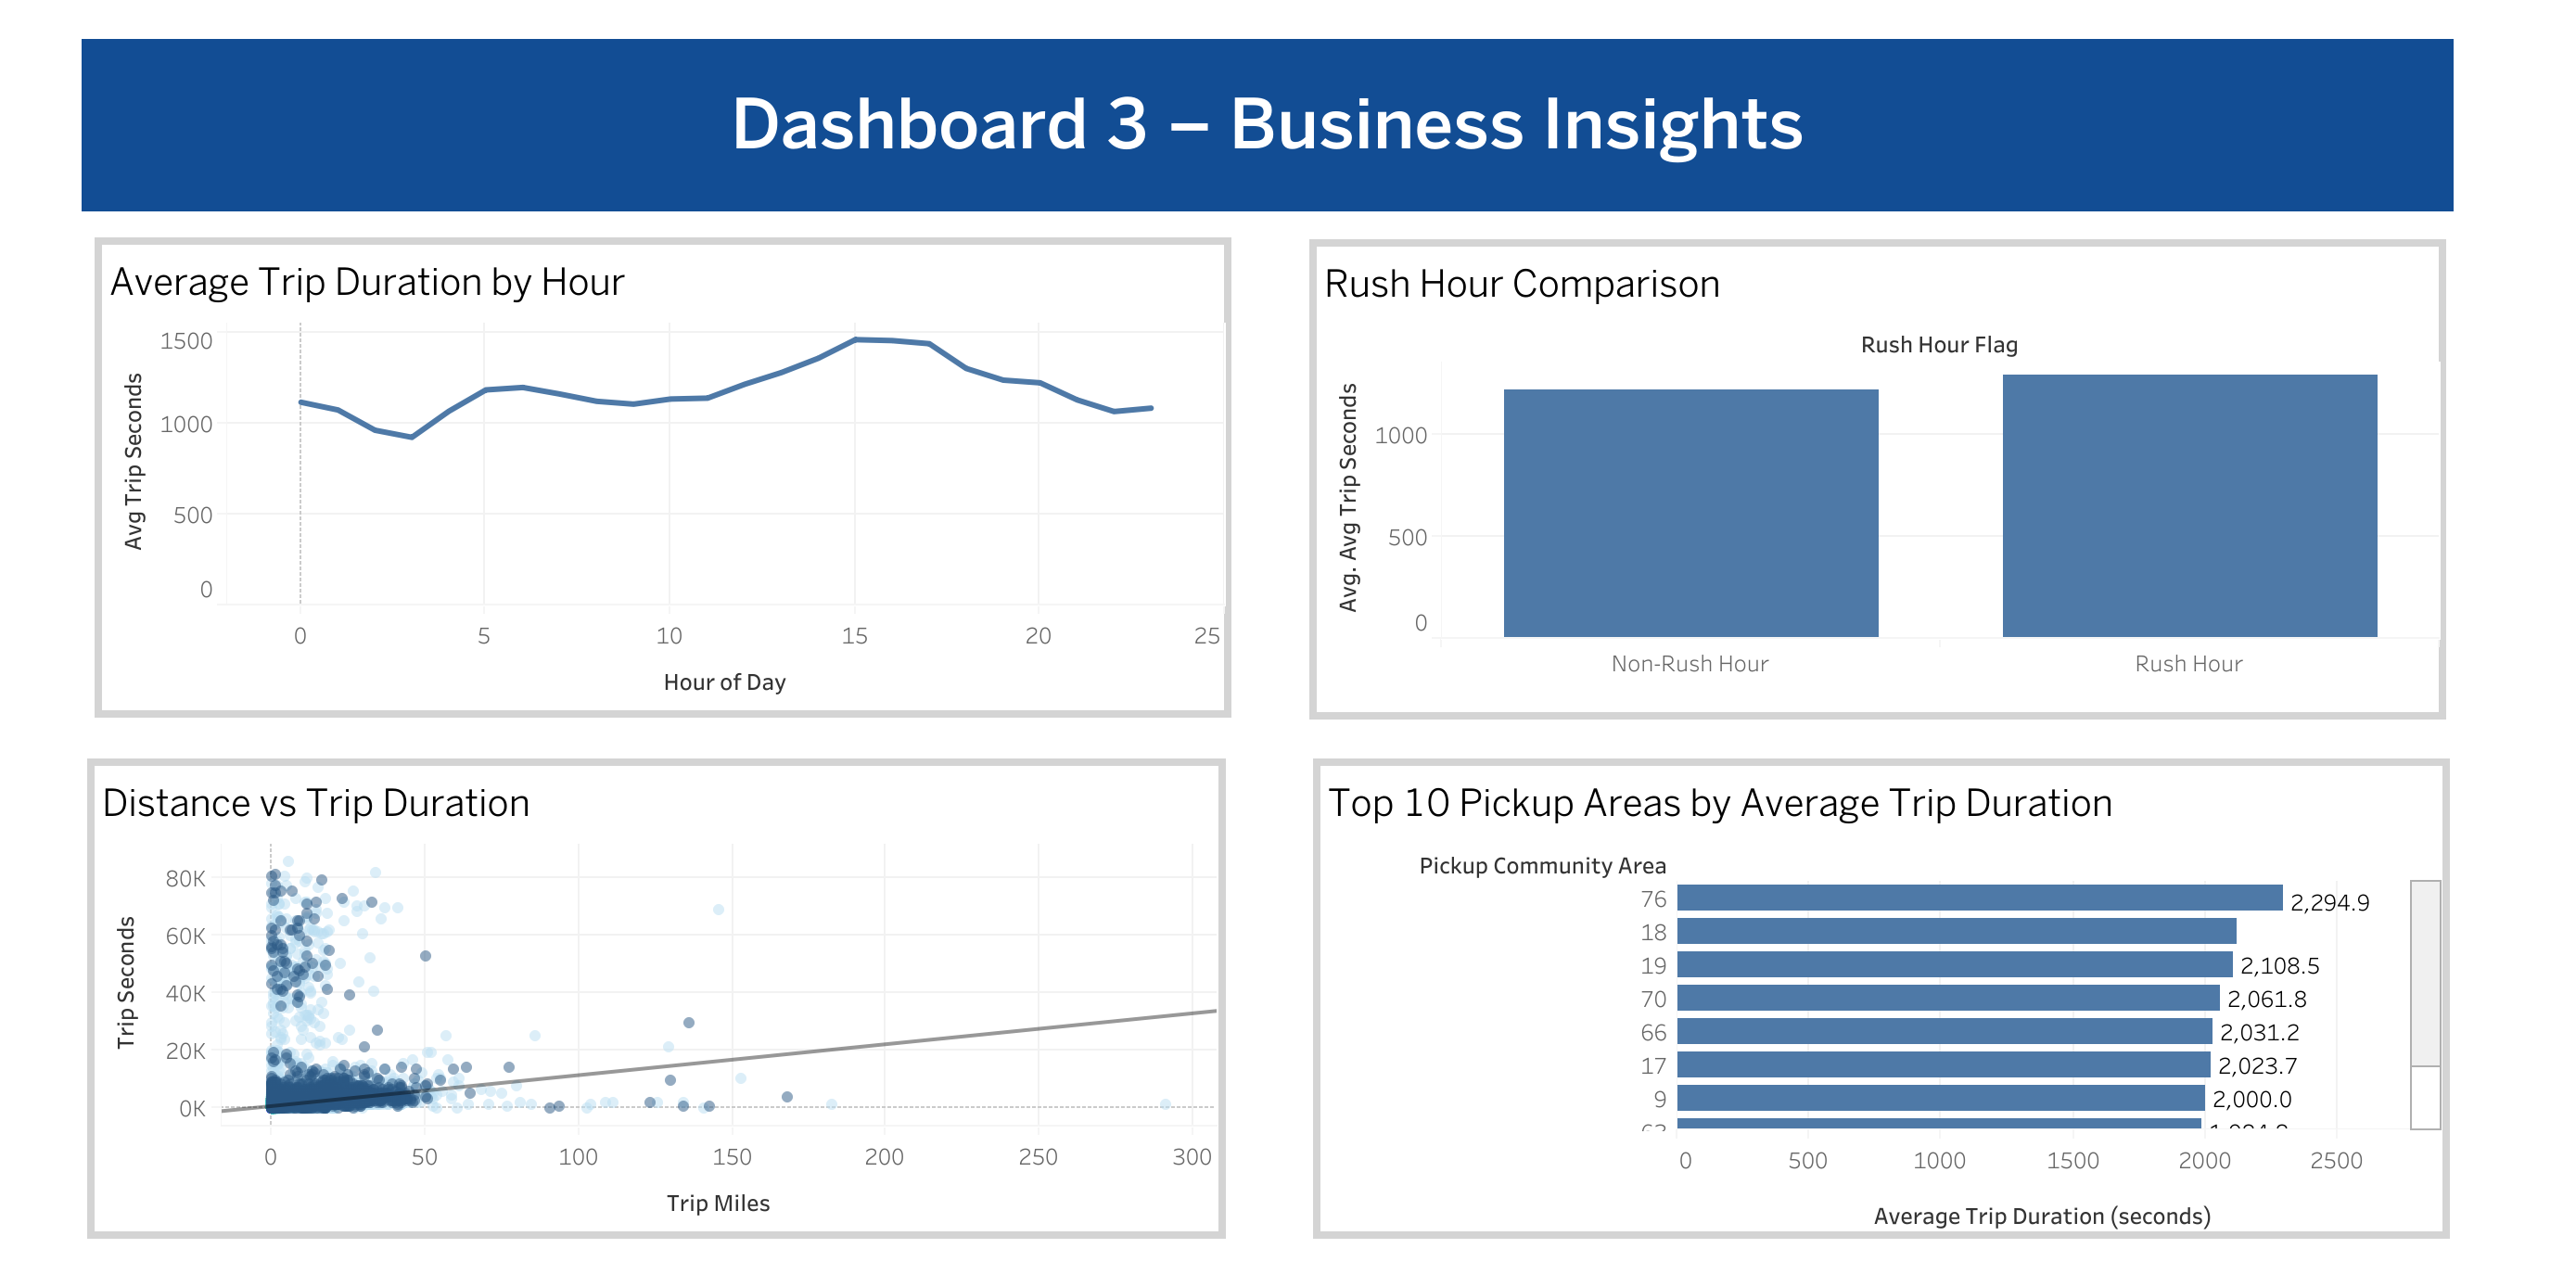

The page's visual inventory and layout, read from the dashboard file:
{"tool":"tableau","page":{"name":"Dashboard 3","canvas":[1000,1000],"units":"permille","ordinal":2},"visuals":[{"type":"text","box":[31.7,30.9,920.3,134.9]},{"type":"worksheet","title":"D3 - Hourly Duration","mark":"Line","rows":["avg_trip_seconds"],"cols":["Hour_of_Day"],"box":[36.6,185.6,441,377.5]},{"type":"worksheet","title":"D3 - Rush Hour","mark":"Bar","rows":["avg_trip_seconds"],"cols":["Rush_Hour_Flag"],"box":[507.7,186.9,441,377.5]},{"type":"worksheet","title":"D3 - Distance","mark":"Circle","rows":["Trip_Seconds"],"cols":["Trip_Miles"],"box":[34.2,594.1,441,377.5]},{"type":"worksheet","title":"D3 - Pickup Areas","mark":"Bar","rows":["Pickup_Community_Area"],"cols":["avg_trip_seconds"],"box":[509.4,594.1,441,377.5]}]}

Visuals, with their boxes on the dashboard's canvas, which has no fixed pixel size, in thousandths of its width and height (x1, y1, x2, y2). These are canvas units, not pixel positions in the 2576x1274 screenshot, which may show the page scaled, cropped or inside an application window:
text: 32 31 952 166
"D3 - Hourly Duration" worksheet (Line marks): 37 186 478 563
"D3 - Rush Hour" worksheet (Bar marks): 508 187 949 564
"D3 - Distance" worksheet (Circle marks): 34 594 475 972
"D3 - Pickup Areas" worksheet (Bar marks): 509 594 950 972
